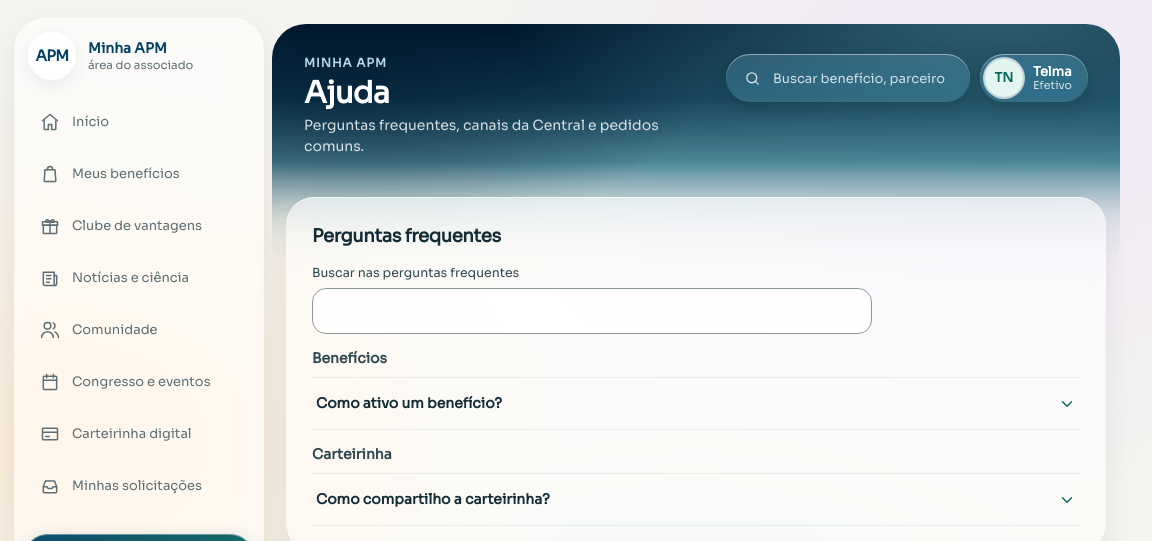
it: Ajuda e atendimento (P14; RF-AJ-01..05) › FAQ: Accordion por categoria, busca no servidor com ?q= e sugestões quando não encontra
Expected: the heading "Benefícios" is shown, [312,349,387,367]
Click the button "Como ativo um benefício?". click: click(409, 403)
box: [312,378,1080,430]
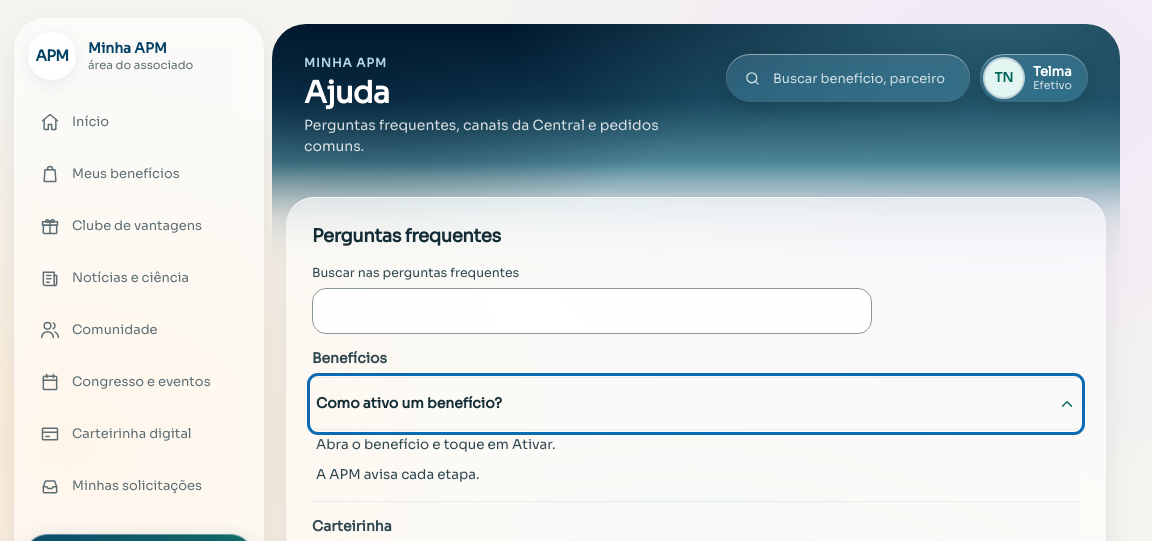
Now the button "Como ativo um benefício?" is expanded, box [312,378,1080,430]
Now the text "A APM avisa cada etapa." is shown, box [316,466,480,483]
Type "boleto" into the search field labelled "Buscar nas perguntas frequentes". click: (592, 311)
box: [312,288,872,334]
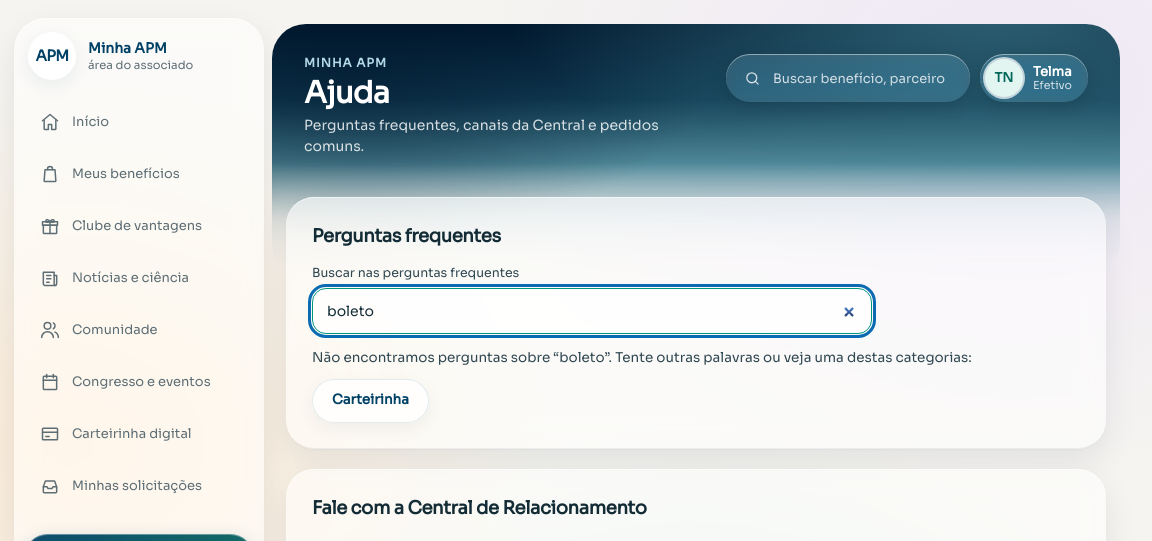
Now the text "Não encontramos perguntas sobre “boleto”" is shown, box [312,349,760,366]
Click the button "Carteirinha". click: click(370, 400)
box: [312,378,429,422]
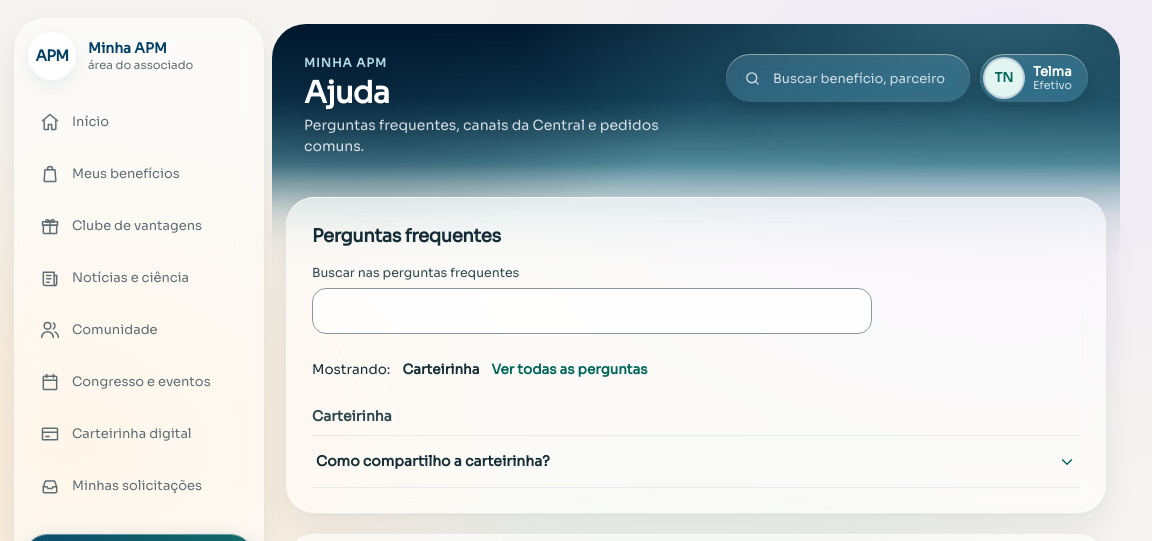
Now the button "Como compartilho a carteirinha?" is shown, box [312,436,1080,488]
Now the search field labelled "Buscar nas perguntas frequentes" is empty, box [312,288,872,334]
Now the text "Mostrando:" is shown, box [312,361,390,378]
